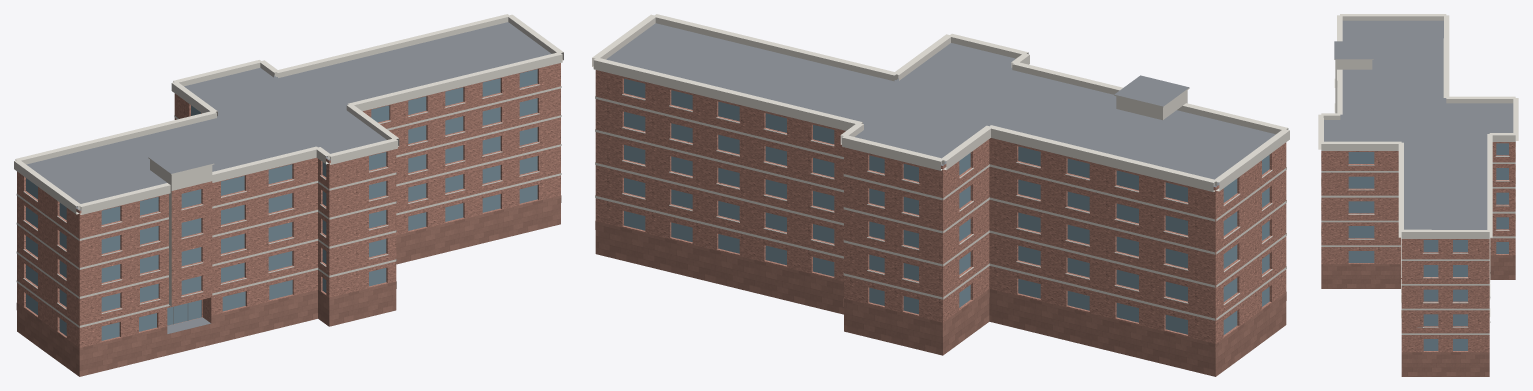
3 renders of one model, left to right at view 1: azimuth 30°, elevation 25°; view 2: azimuth 150°, elevation 25°; view 3: azimuth 270°, elevation 25°, orthographic. The views are drawn at different scales.
Parts seen in each view (by area): view 1: silloeGwanN20__wall, silloeGwanN20__roof, silloeGwanN20__trim, silloeGwanN20__glass, silloeGwanN20__base; view 2: silloeGwanN20__wall, silloeGwanN20__roof, silloeGwanN20__trim, silloeGwanN20__base, silloeGwanN20__glass; view 3: silloeGwanN20__roof, silloeGwanN20__wall, silloeGwanN20__trim, silloeGwanN20__base, silloeGwanN20__glass.
Part boxes in pixels (box(x1,y1,x2,y2)): silloeGwanN20__wall: box(17, 63, 560, 355); silloeGwanN20__roof: box(26, 22, 551, 333); silloeGwanN20__trim: box(14, 14, 563, 327); silloeGwanN20__glass: box(26, 69, 537, 340); silloeGwanN20__base: box(16, 195, 561, 376); silloeGwanN20__wall: box(595, 70, 1286, 352); silloeGwanN20__roof: box(606, 23, 1275, 187); silloeGwanN20__trim: box(592, 14, 1289, 320); silloeGwanN20__base: box(595, 221, 1286, 376); silloeGwanN20__glass: box(624, 78, 1269, 334); silloeGwanN20__roof: box(1324, 20, 1513, 327); silloeGwanN20__wall: box(1321, 142, 1515, 352); silloeGwanN20__trim: box(1318, 14, 1518, 334); silloeGwanN20__base: box(1321, 255, 1515, 376); silloeGwanN20__glass: box(1348, 143, 1508, 350).
Size of the model in its own units: 64.35 by 21.6 by 24.96.
7 materials, 2 textured.
